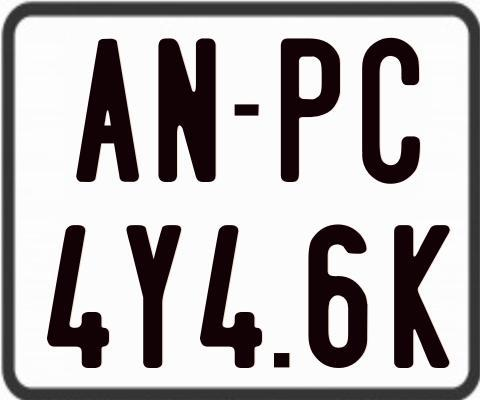4: (45, 224, 113, 368), (197, 224, 259, 373)
6: (306, 224, 369, 372)
A: (73, 39, 138, 187)
C: (361, 35, 419, 181)
K: (391, 224, 452, 370)
N: (158, 36, 220, 185)
P: (279, 36, 343, 183)
Y: (125, 223, 185, 366)
